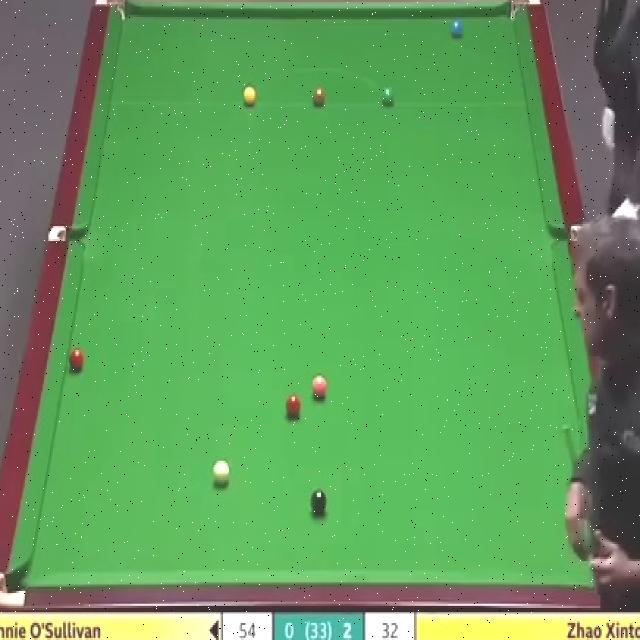black-ball: (310, 490, 328, 514)
blue-ball: (449, 18, 465, 39)
brown-ball: (312, 88, 326, 105)
green-ball: (380, 84, 396, 108)
pink-ball: (310, 374, 328, 398)
red-ball: (285, 392, 301, 417), (69, 347, 85, 371)
white-ball: (210, 459, 230, 487)
yellow-ball: (242, 85, 257, 106)
